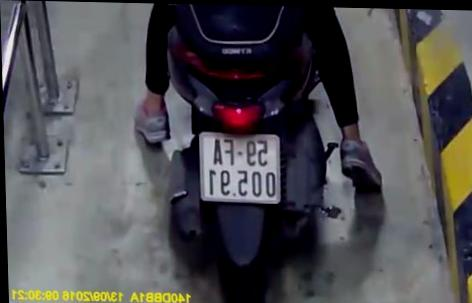License_Plate: (196, 127, 289, 209)
